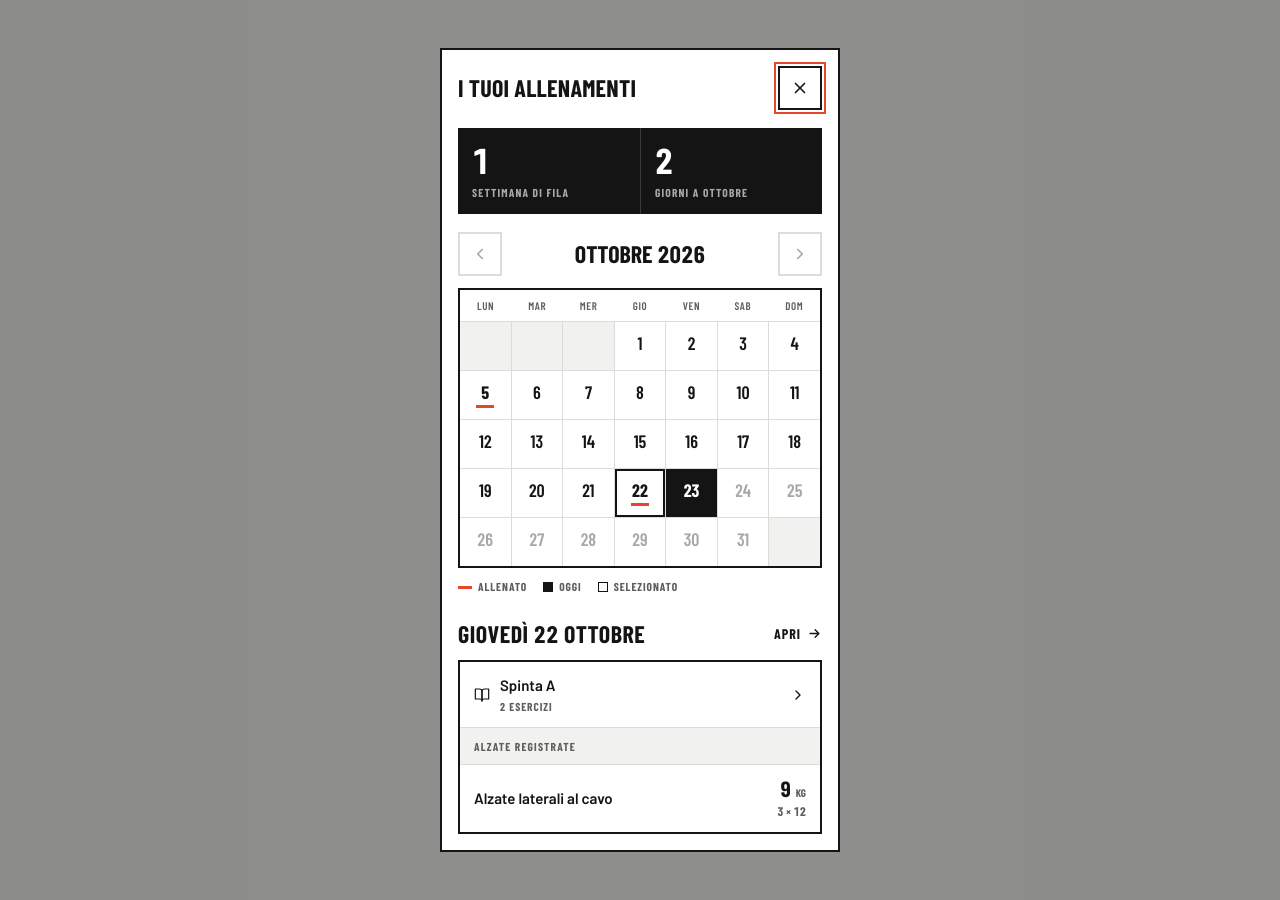
Test: il calendario degli allenamenti › un giorno senza allenamento lo dice, senza «Apri»
The image size is (1280, 900).
Click the button named "20 Ottobre".
click(537, 493)  # box [512, 469, 562, 517]
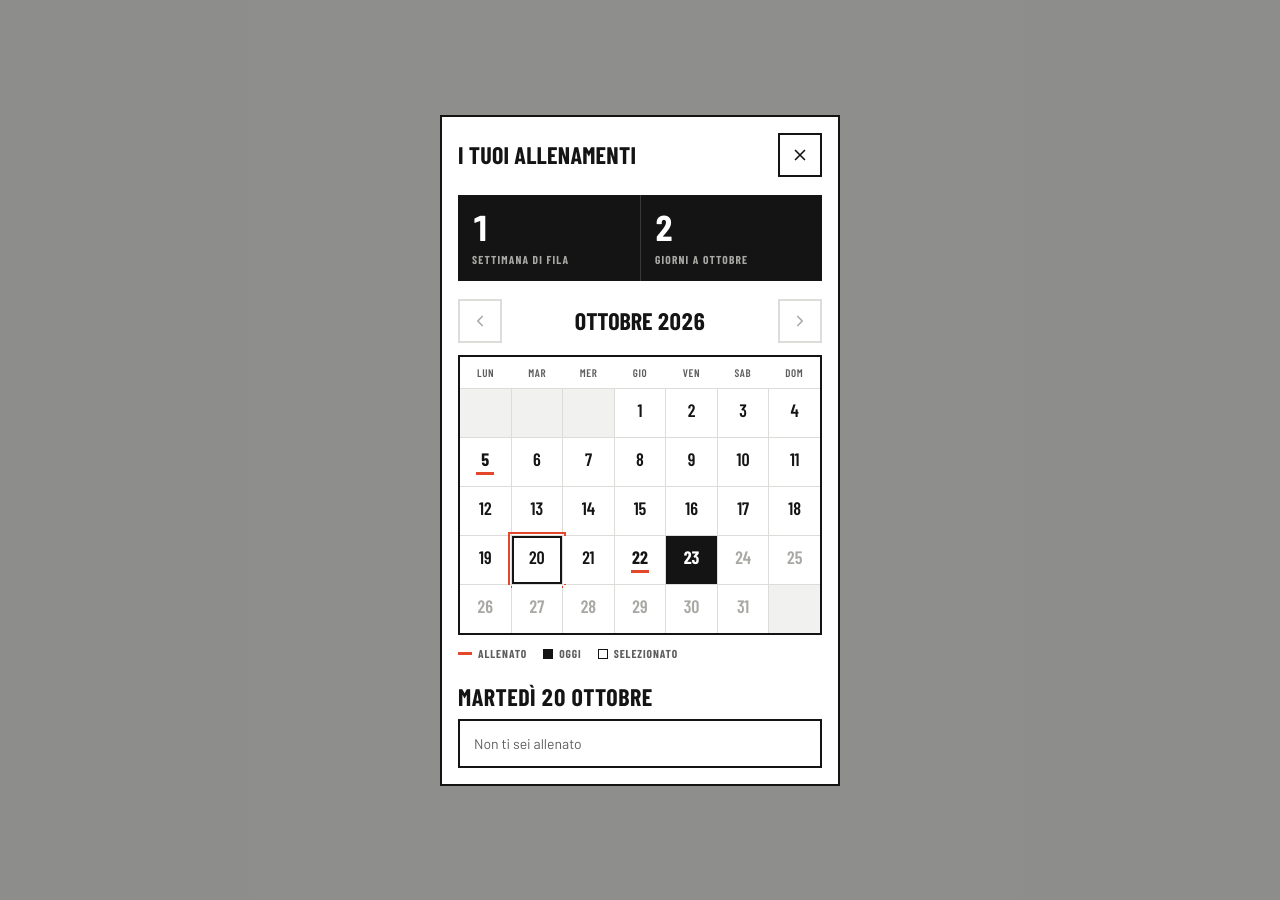
Now the text "Non ti sei allenato" is shown, box [474, 734, 582, 752]
